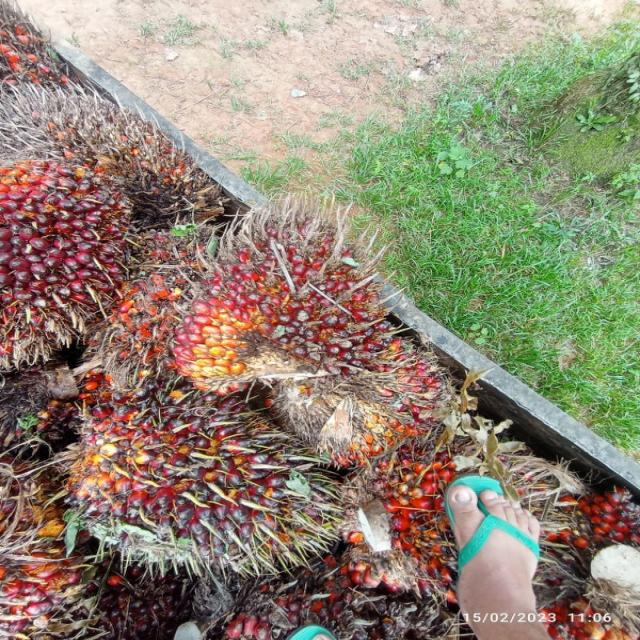fraksi 1: (49, 383, 357, 597), (0, 161, 163, 359)
fraksi 3: (157, 165, 418, 426)
